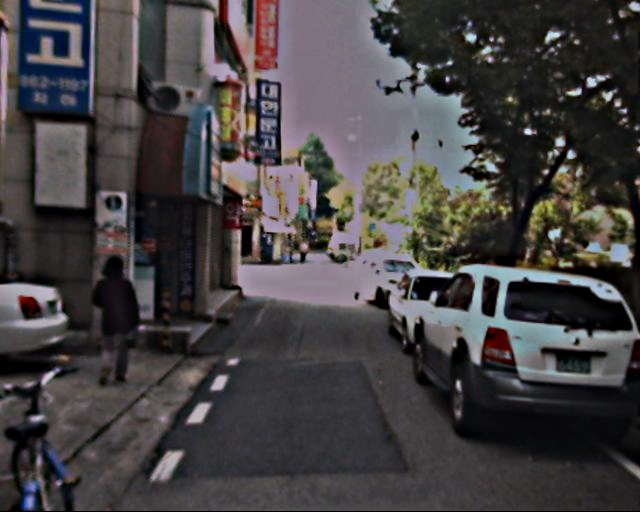person: (86, 253, 146, 385)
